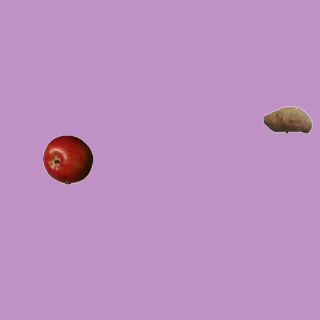Apple Braeburn: (42, 134, 92, 184)
Potato Sweet: (262, 94, 312, 144)
